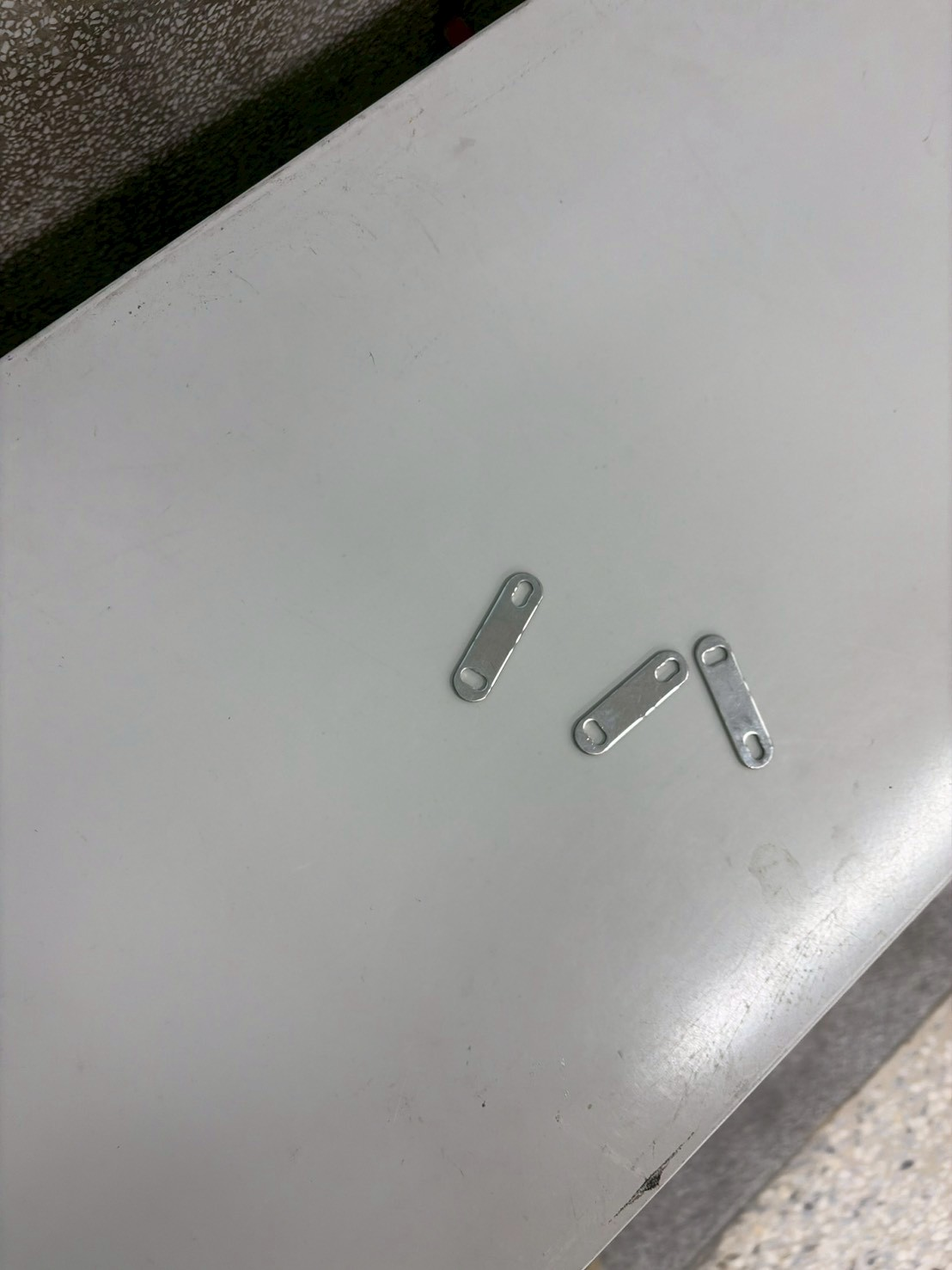Fe: (517, 559, 562, 711), (686, 647, 731, 791), (673, 640, 718, 784)
